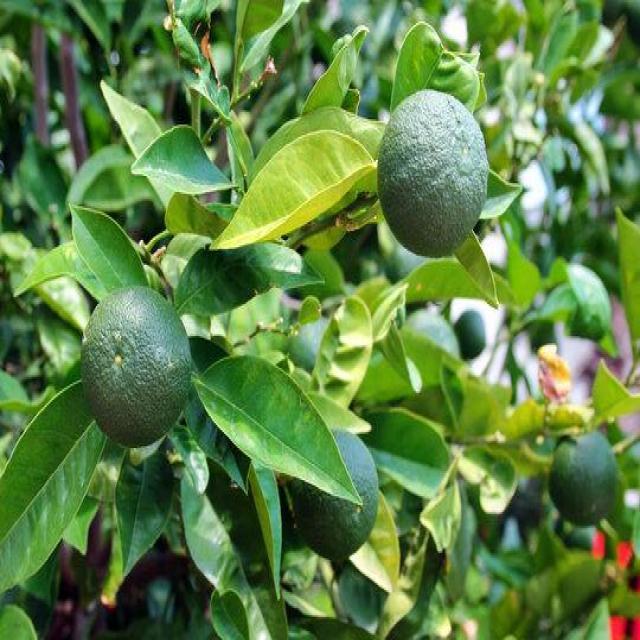Jeruk Belum Matang: (376, 90, 489, 258), (80, 288, 190, 453), (292, 428, 381, 558), (551, 430, 618, 523)
